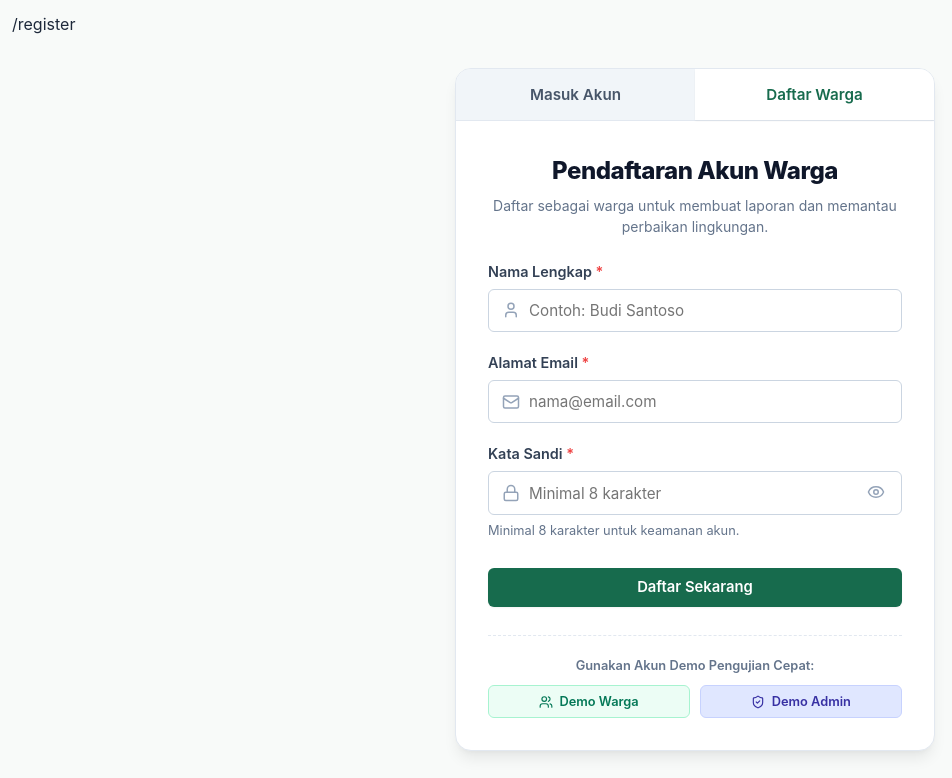
Test case: AuthPage › honors query mode over the initial mode and provides a fallback error message
Check: the heading "Pendaftaran Akun Warga" is shown, box left=552, top=156, right=838, bottom=185
Type "Budi Santoso" into the field labelled "Nama Lengkap *" at (695, 310), box left=488, top=289, right=902, bottom=332
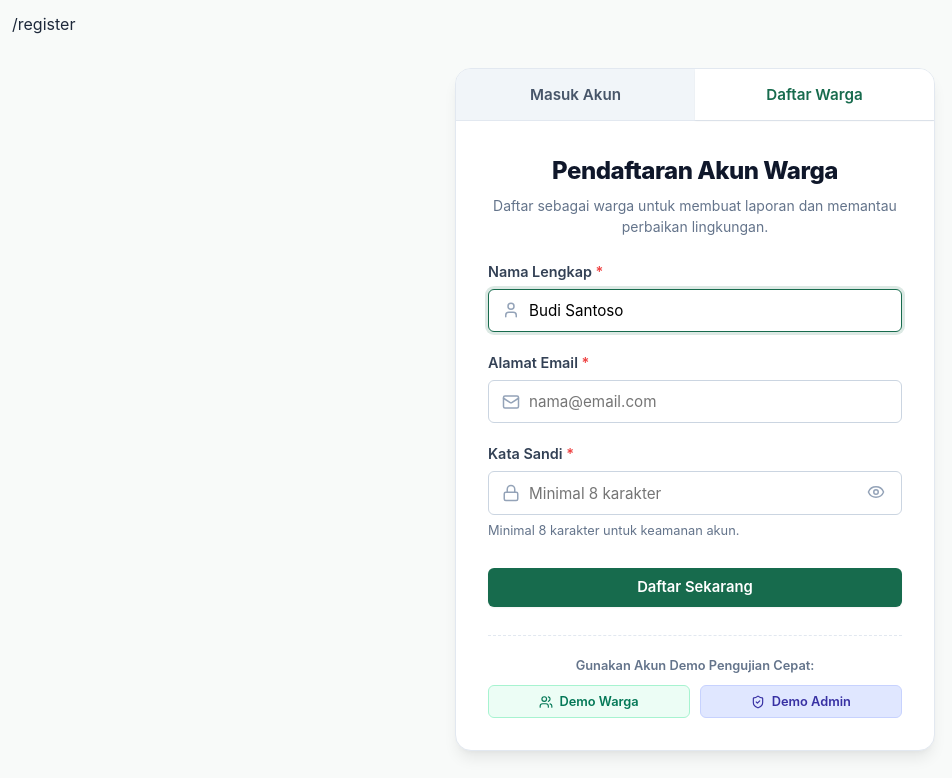
Type "budi@example.test" into the field labelled "Alamat Email *" at (695, 402), box left=488, top=380, right=902, bottom=423
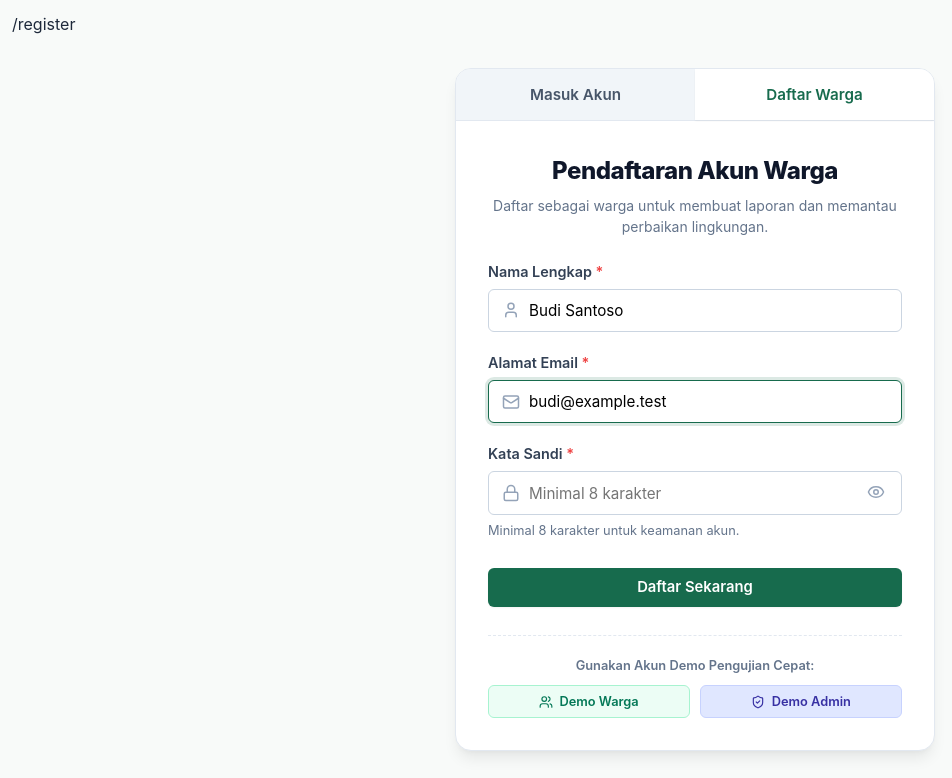
Type "password123" into the password field labelled "Kata Sandi *" at (695, 493), box left=488, top=471, right=902, bottom=515
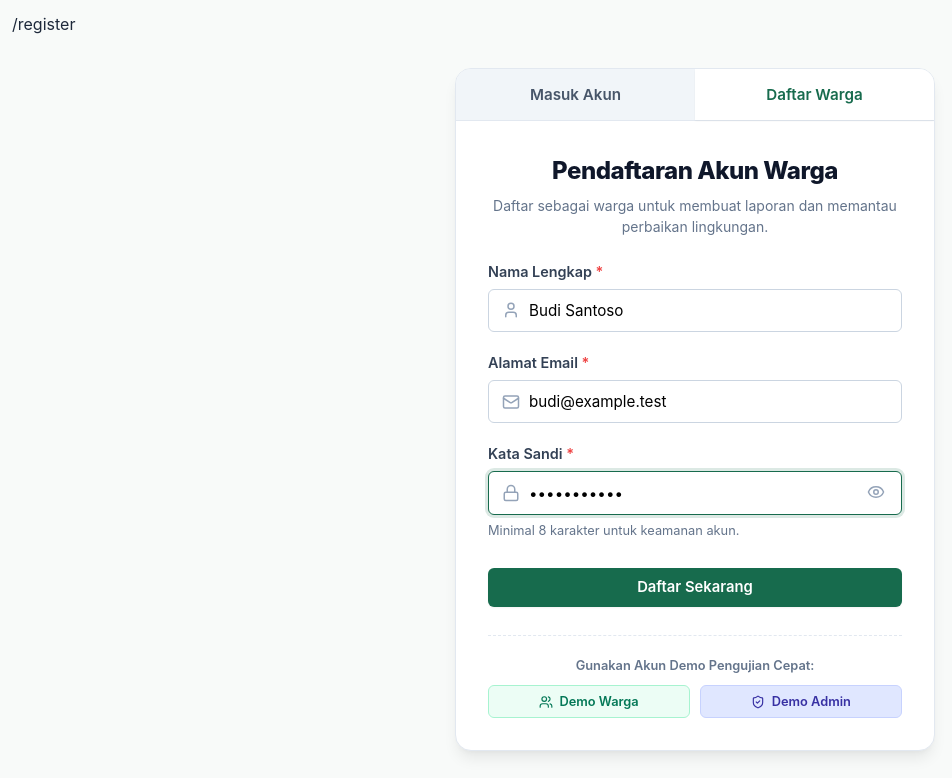
Click the button "Daftar Sekarang" at (695, 588), box left=488, top=568, right=902, bottom=607
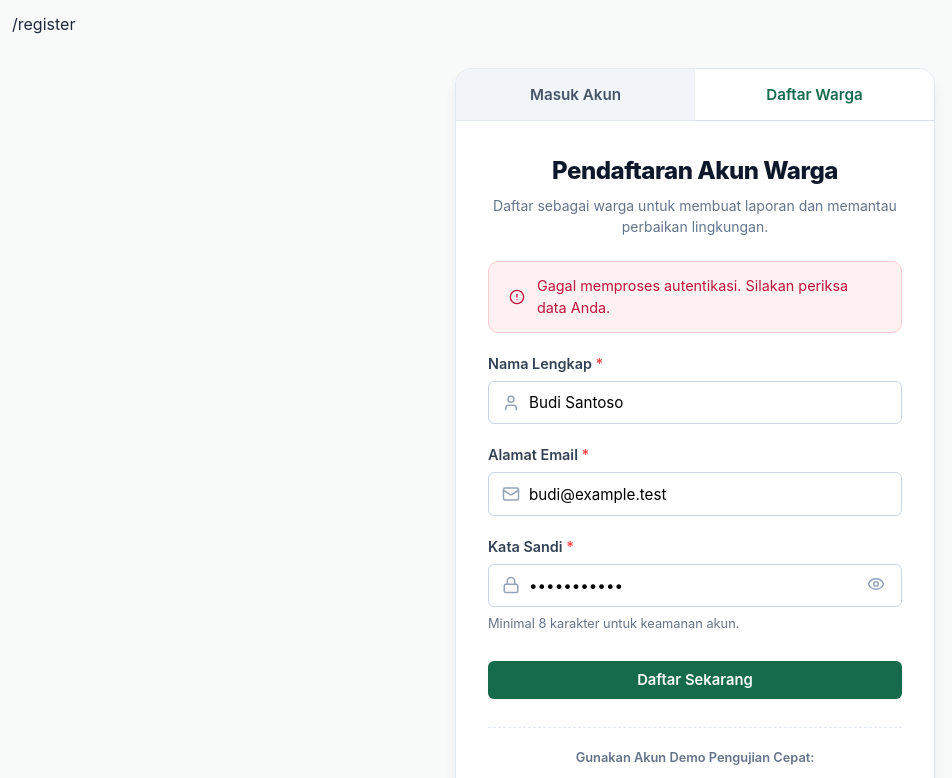
Check: the message shows "Gagal memproses autentikasi", box left=537, top=277, right=848, bottom=316
